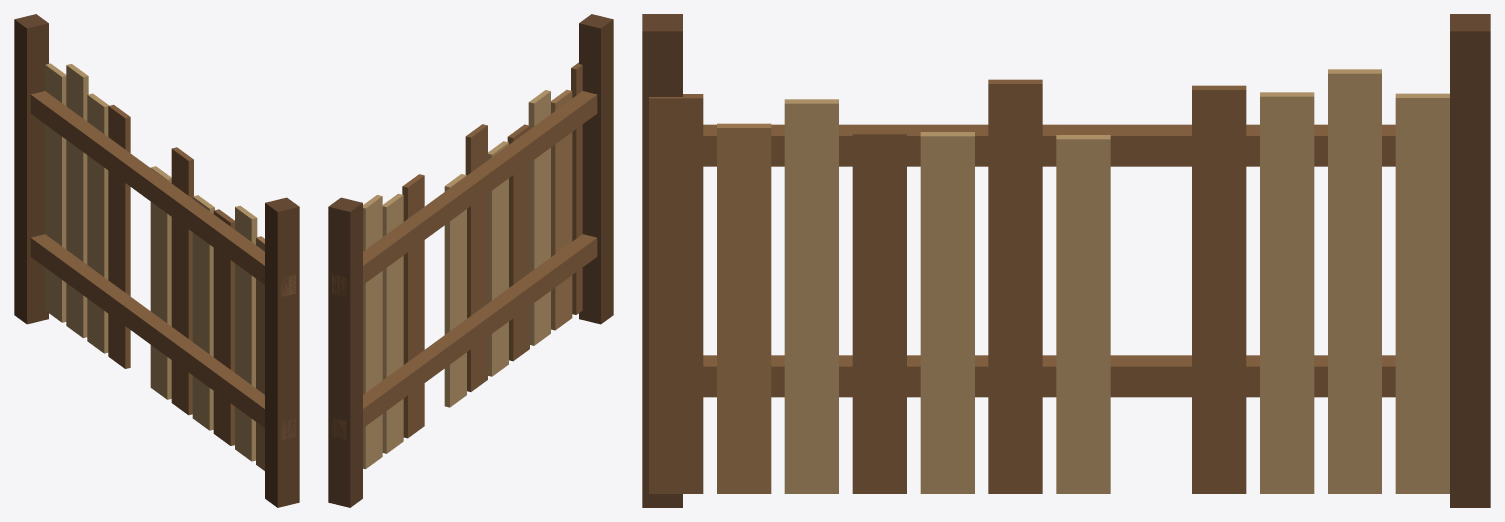
File: SM_Borgo_Fence_Wood.glb
3 renders of one model, left to right at view 1: azimuth 30°, elevation 25°; view 2: azimuth 150°, elevation 25°; view 3: azimuth 270°, elevation 25°, orthographic. The views are drawn at different scales.
Parts seen in each view (by area): view 1: SM_Borgo_Fence_Wood; view 2: SM_Borgo_Fence_Wood; view 3: SM_Borgo_Fence_Wood.
Boxes of the visible parts, left/top/right/bottom form: SM_Borgo_Fence_Wood: left=14, top=14, right=299, bottom=507; SM_Borgo_Fence_Wood: left=328, top=14, right=613, bottom=507; SM_Borgo_Fence_Wood: left=642, top=14, right=1490, bottom=507.
Size of the model in its own units: 0.13 by 1.55 by 2.5.
Materials: 1 (1 with a texture image).
